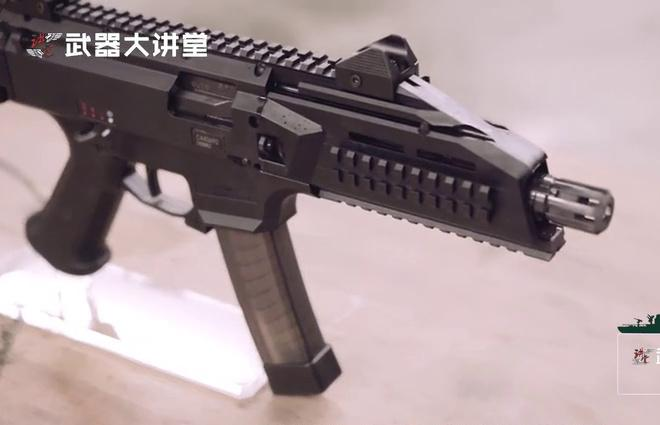gun: (1, 0, 660, 425)
